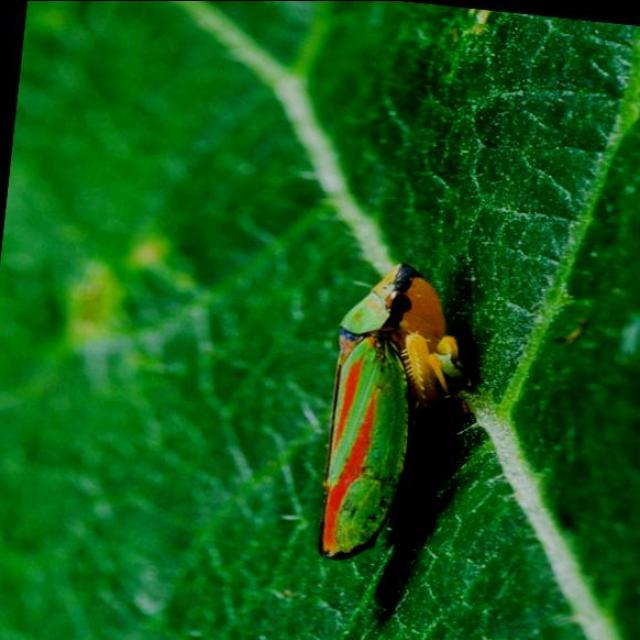green leaf hopper: (320, 263, 461, 558)
